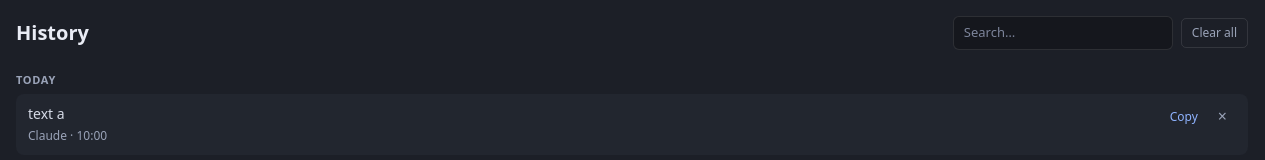
Test case: HistoryPage › clears everything after Yes
Check: the text "text a" is shown, box [28,104,65,123]
Click the button "Clear all" at (1214, 33), box [1181,18,1248,48]
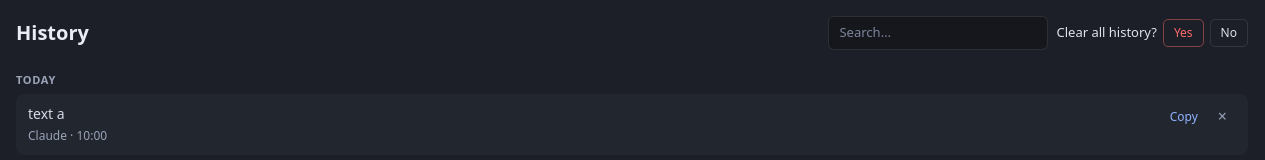
Click the button "Yes" at (1183, 33), box [1163,19,1204,47]
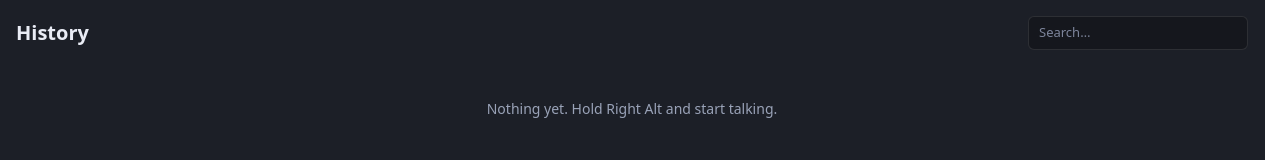
Check: the text "text a" is gone
Check: the text "Clear all history?" is gone
Check: the text "Nothing yet. Hold Right Alt and start talking." is shown, box [487,98,777,118]
